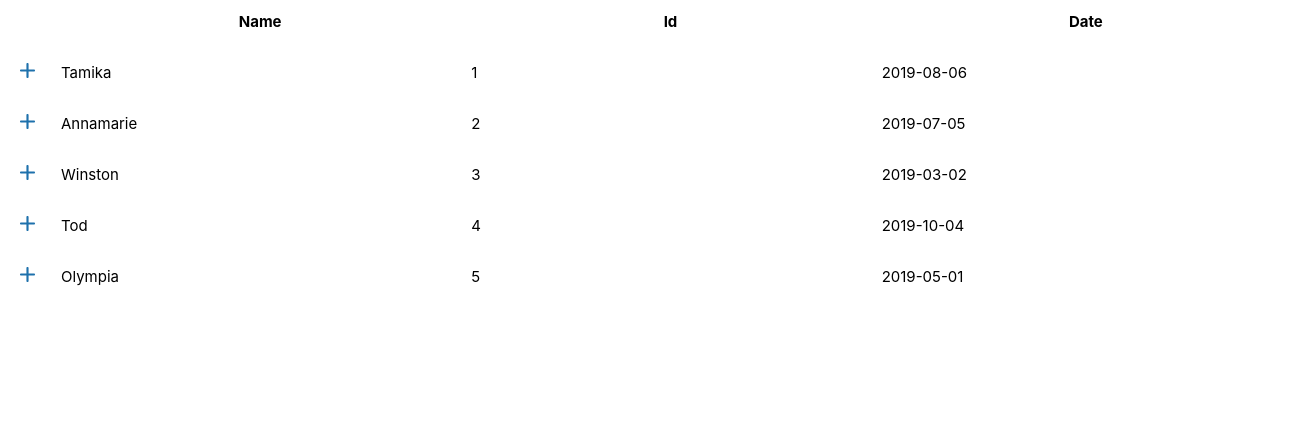
Scenario: DataTable › should show expandable rows when expander is clicked
This screenshot has width=1292, height=429.
Note: Click the first row.
What coordinates should you click on to do the following:
click the button named "Expand row 1"
I would click on:
 (28, 124)
Its box is x1=15 y1=111 x2=40 y2=136.
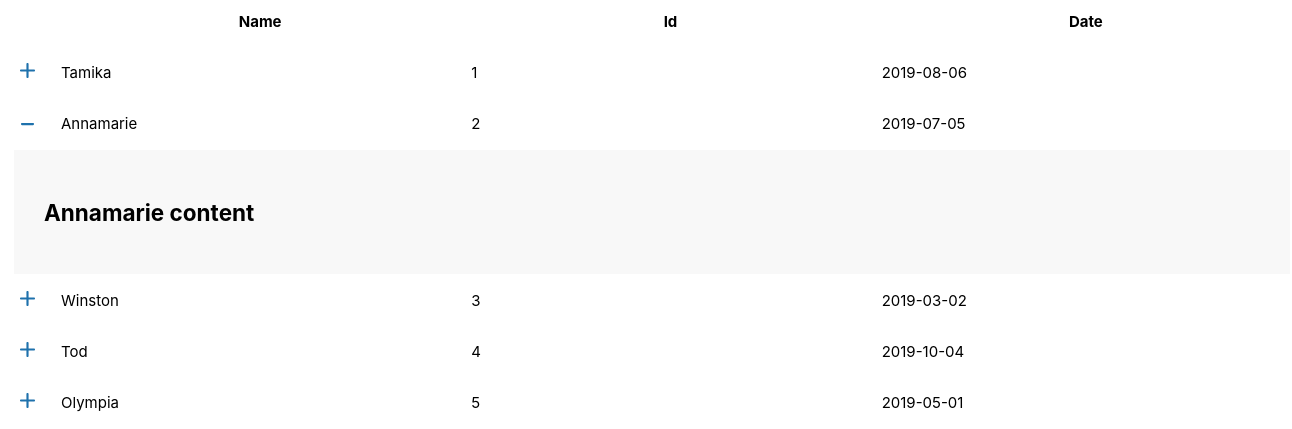
expect the row "Annamarie content" is shown: met, box x1=14 y1=150 x2=1290 y2=274
